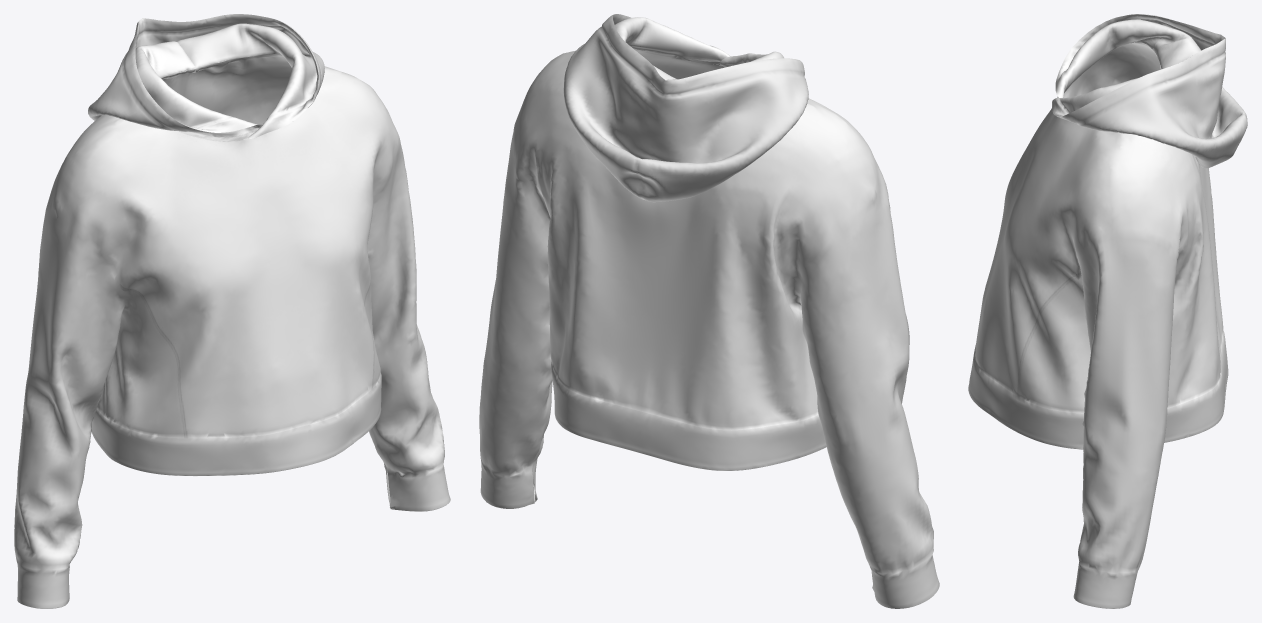
File: Hoodie Arkyvs.gltf
3 views of the same model, side by side, from view 1: azimuth 30°, elevation 25°; view 2: azimuth 150°, elevation 25°; view 3: azimuth 270°, elevation 25° (orthographic). The views are drawn at different scales.
Parts seen in each view (by area): view 1: Pattern2D_11073535, Pattern2D_5470642, Pattern2D_5470643, Pattern2D_11603431, Pattern2D_292346, Pattern2D_10465976, Pattern2D_11603430, Pattern2D_11664611, Pattern2D_11664612; view 2: Pattern2D_10465976, Pattern2D_5470642, Pattern2D_11603430, Pattern2D_5470643, Pattern2D_292346, Pattern2D_11603431, Pattern2D_11664612, Pattern2D_11664611, Pattern2D_11073535; view 3: Pattern2D_11073535, Pattern2D_5470643, Pattern2D_10465976, Pattern2D_11603430, Pattern2D_292346, Pattern2D_11603431, Pattern2D_11664611.
Boxes of the visible parts, <box> form: Pattern2D_11073535: <box>61,73,399,438</box>; Pattern2D_5470642: <box>14,209,125,569</box>; Pattern2D_5470643: <box>367,140,444,474</box>; Pattern2D_11603431: <box>135,14,318,139</box>; Pattern2D_292346: <box>91,373,381,476</box>; Pattern2D_10465976: <box>46,54,357,413</box>; Pattern2D_11603430: <box>88,20,324,140</box>; Pattern2D_11664611: <box>384,465,450,511</box>; Pattern2D_11664612: <box>16,561,69,608</box>; Pattern2D_10465976: <box>513,50,877,430</box>; Pattern2D_5470642: <box>800,194,933,574</box>; Pattern2D_11603430: <box>563,14,808,202</box>; Pattern2D_5470643: <box>479,129,552,475</box>; Pattern2D_292346: <box>551,362,826,470</box>; Pattern2D_11603431: <box>613,14,783,80</box>; Pattern2D_11664612: <box>870,554,939,608</box>; Pattern2D_11664611: <box>480,459,537,508</box>; Pattern2D_11073535: <box>633,48,888,198</box>; Pattern2D_11073535: <box>975,54,1117,413</box>; Pattern2D_5470643: <box>1076,234,1178,573</box>; Pattern2D_10465976: <box>1108,42,1223,408</box>; Pattern2D_11603430: <box>1056,14,1247,168</box>; Pattern2D_292346: <box>968,331,1228,449</box>; Pattern2D_11603431: <box>1052,14,1225,116</box>; Pattern2D_11664611: <box>1073,562,1139,608</box>.
Bounding box in the file's own units: 0.6049 × 0.6892 × 0.3638.
Materials: 9 (9 with a texture image).
